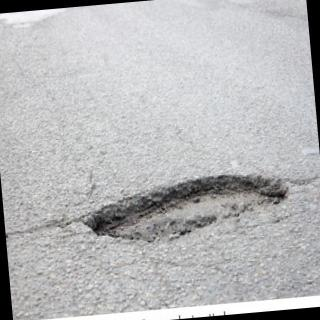pothole: (84, 175, 286, 238)
